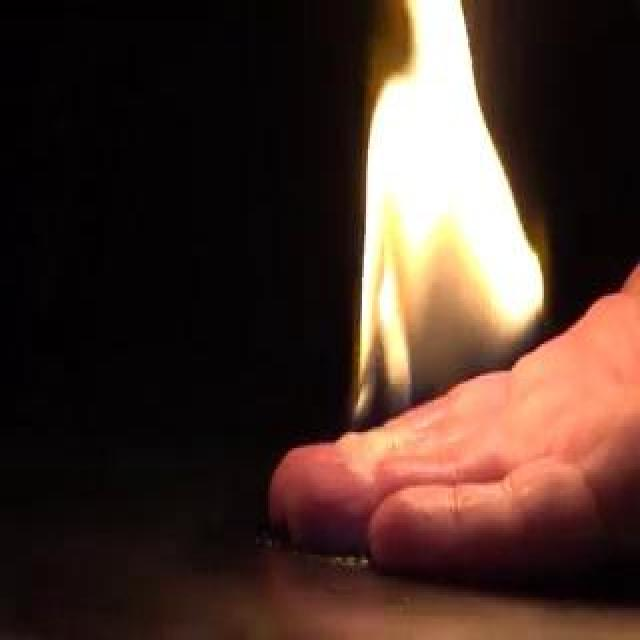Fire: (369, 83, 477, 429)
